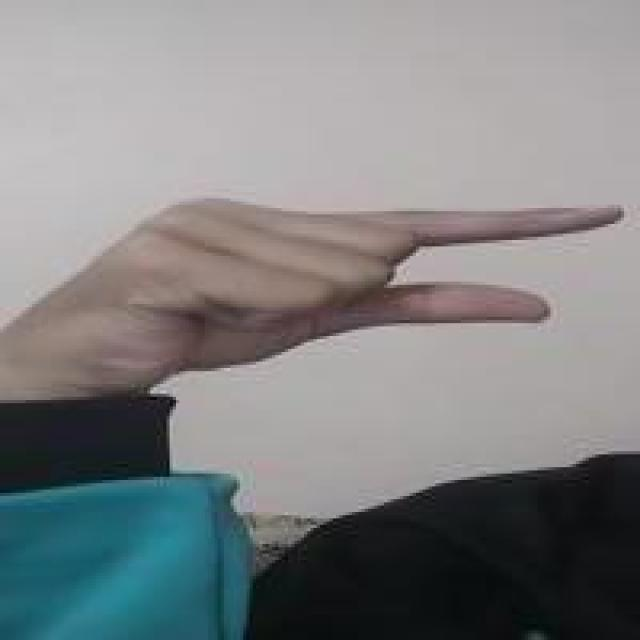G: (22, 190, 621, 389)
